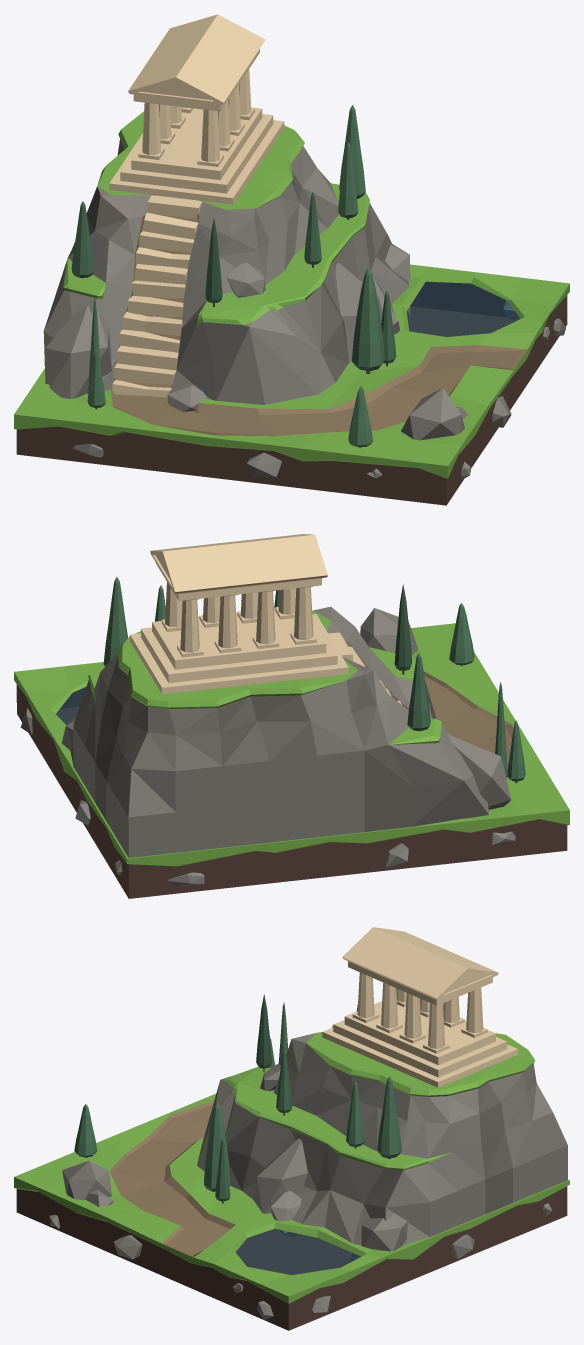
3 views of the same model, one above another, from view 1: azimuth 30°, elevation 25°; view 2: azimuth 150°, elevation 25°; view 3: azimuth 270°, elevation 25° (orthographic). The views are drawn at different scales.
Parts seen in each view (by area): view 1: Base, Hill, Temple, Rocks, Stairs, Cypresses; view 2: Hill, Base, Temple, Cypresses, Rocks, Stairs; view 3: Hill, Base, Temple, Rocks, Cypresses.
Part boxes in pixels (x1,y1,x2,y2): Base: (14,264,569,505); Hill: (43,111,409,404); Temple: (109,14,284,204); Rocks: (45,244,565,479); Stairs: (112,195,201,397); Cypresses: (71,105,396,447); Hill: (70,606,488,857); Base: (14,623,569,898); Temple: (130,534,348,694); Cypresses: (103,577,525,783); Rocks: (20,608,515,886); Stairs: (328,632,401,704); Hill: (197,1032,567,1245); Base: (14,1093,569,1330); Temple: (322,927,518,1087); Rocks: (49,1064,552,1319); Cypresses: (74,994,401,1203).
Size of the model in its own units: 1414 by 724 by 1414.
3 materials, 2 textured.
